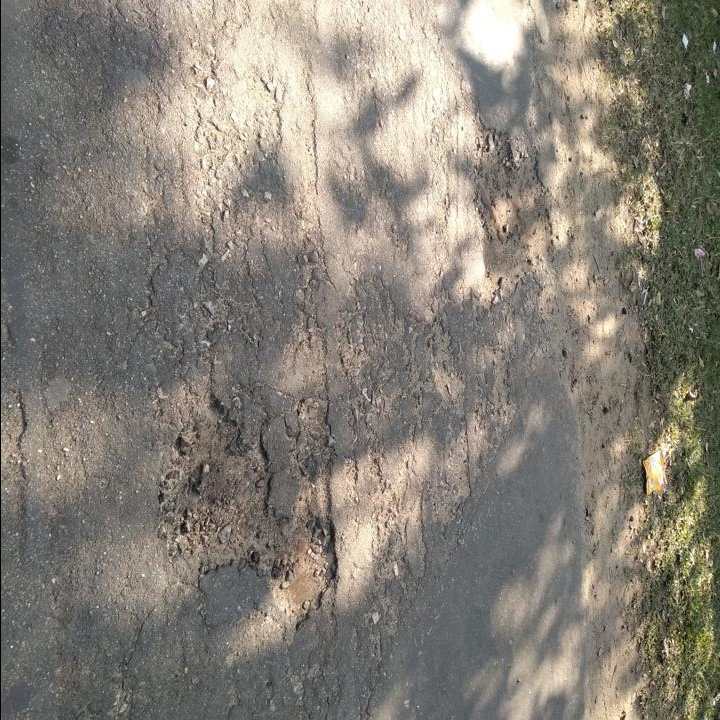pothole: (155, 394, 277, 579), (470, 117, 557, 310), (270, 509, 344, 631)
